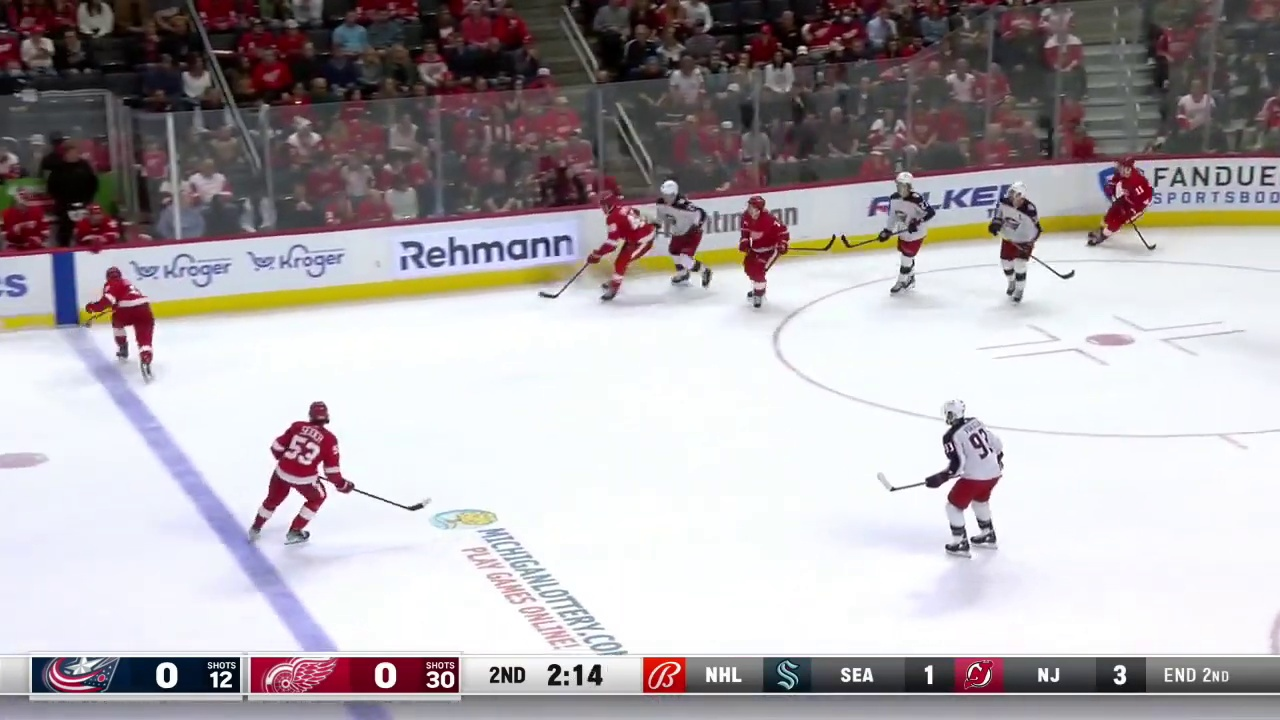hockeyplayer: (247, 400, 355, 546), (926, 399, 1004, 558), (86, 266, 156, 383), (587, 193, 656, 304), (878, 171, 935, 297), (988, 181, 1042, 306), (653, 180, 713, 290), (1085, 155, 1154, 247), (737, 195, 790, 313)
